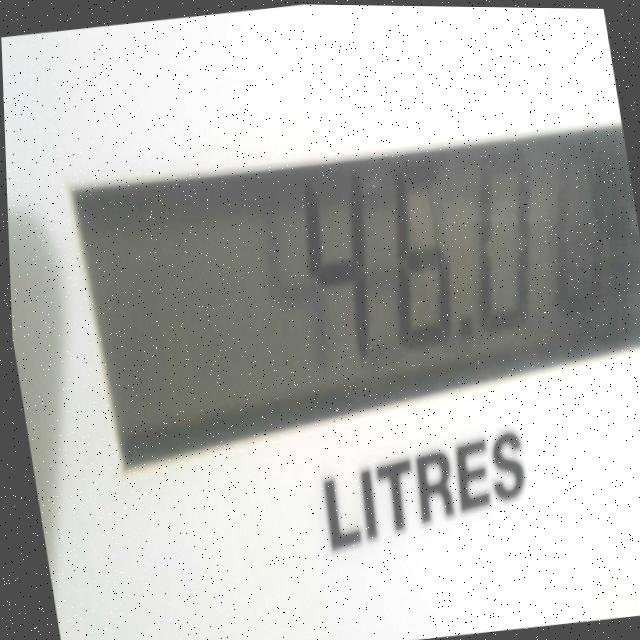.: (451, 312, 476, 364)
0: (447, 133, 566, 349), (523, 126, 640, 327)
4: (270, 182, 400, 382)
6: (369, 155, 478, 400)
